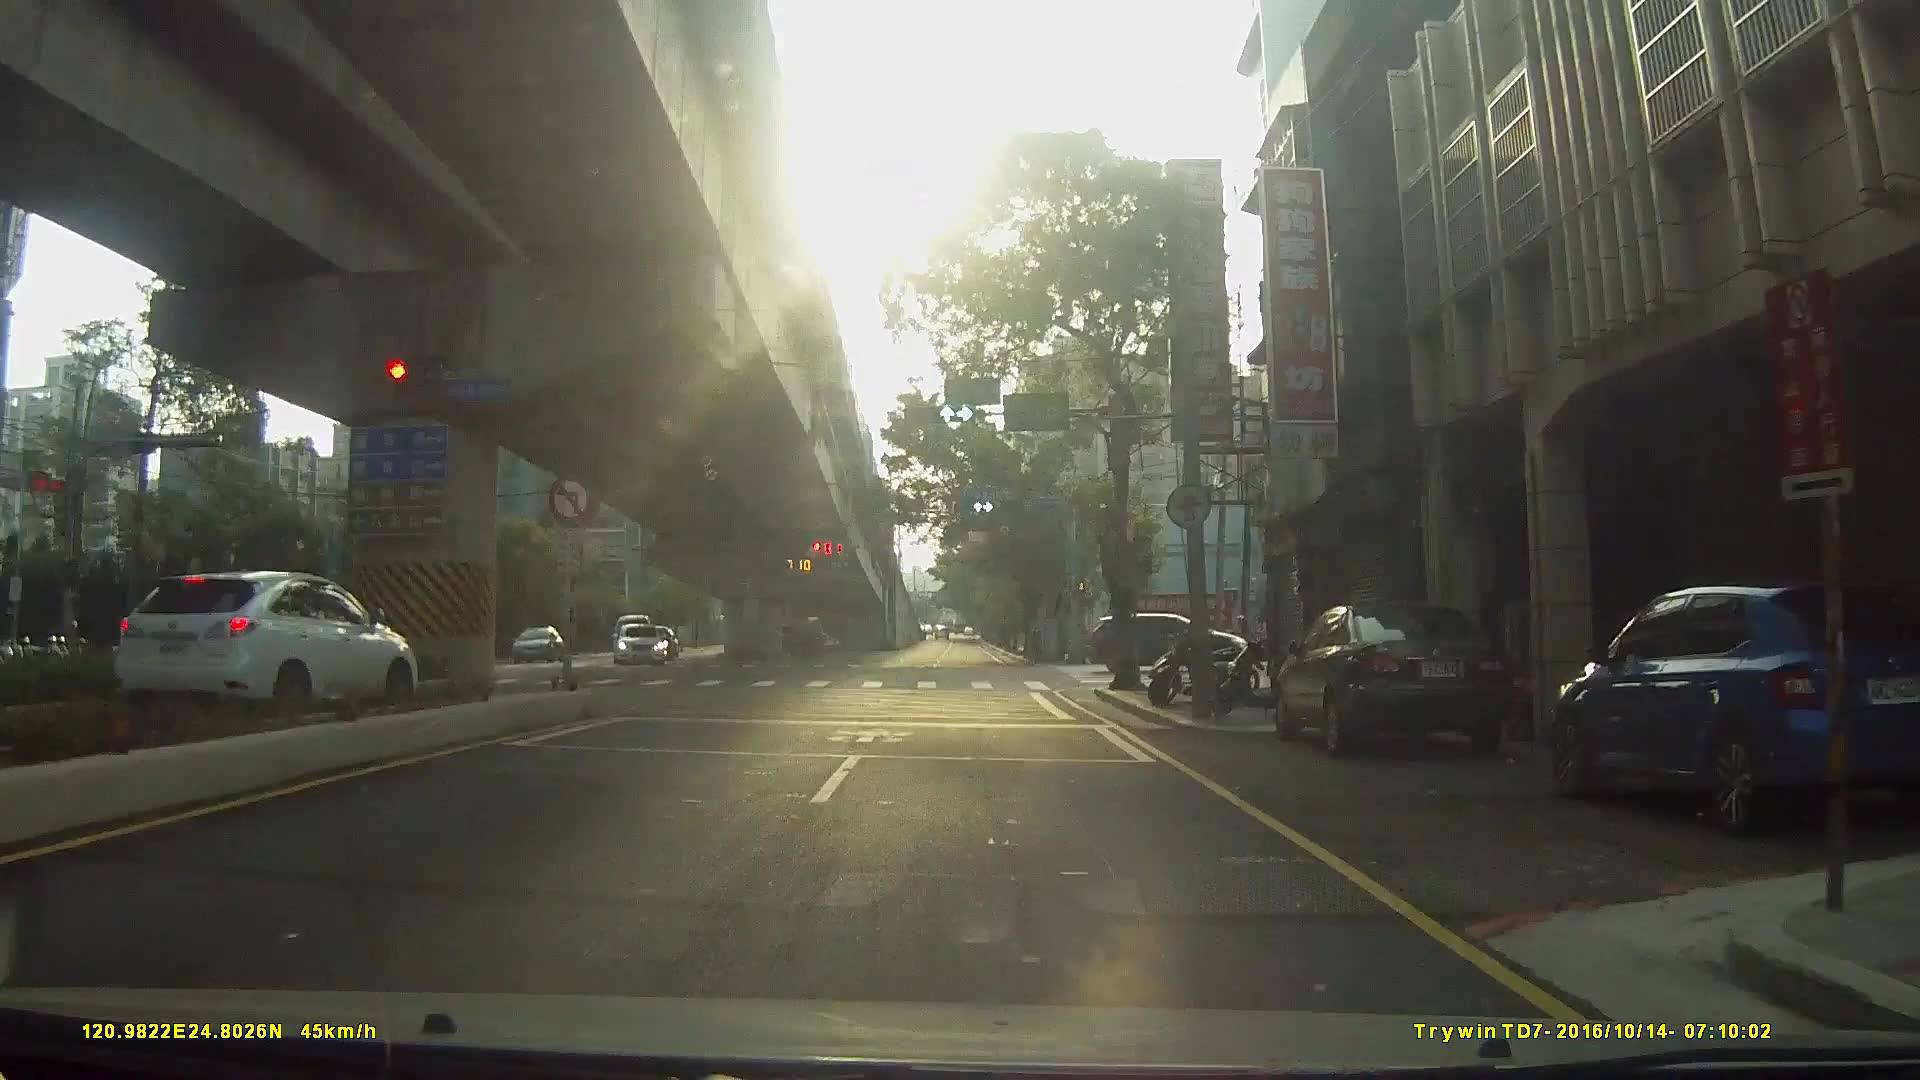vehicle: (1544, 574, 1920, 847), (109, 564, 429, 725), (1279, 599, 1526, 762), (1087, 611, 1259, 675), (611, 622, 663, 665), (508, 622, 558, 665)
